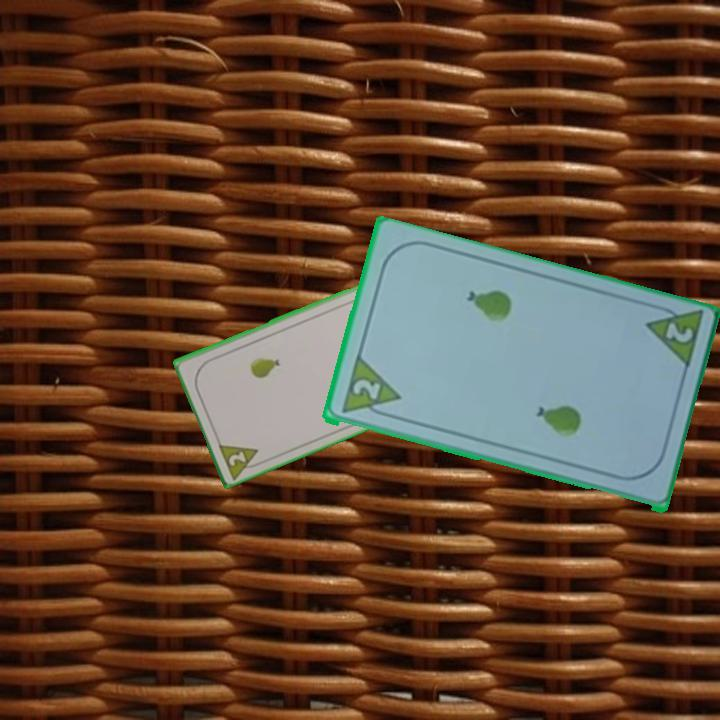2p: (640, 300, 706, 374), (214, 438, 266, 480), (348, 376, 383, 404)
